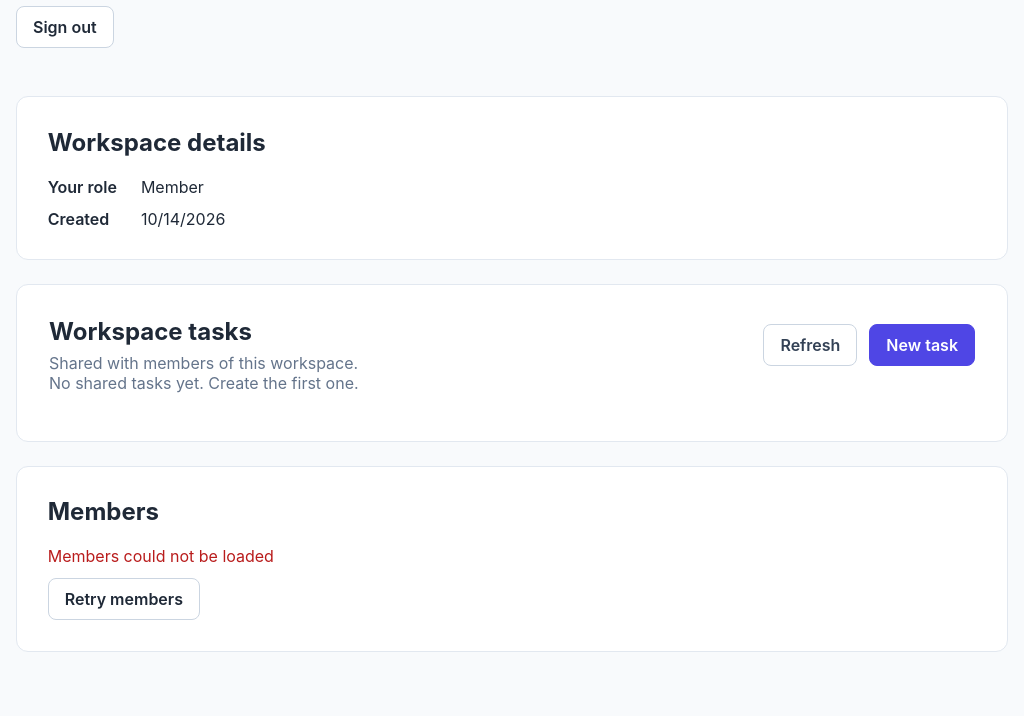
WorkspaceDetailsPage › retries member loading without reloading workspace details
(page scrolled)
Expected: the message reads "Members could not be loaded", left=48, top=546, right=274, bottom=566
Click the button "Retry members": coordinates (124, 599) left=48, top=578, right=200, bottom=620
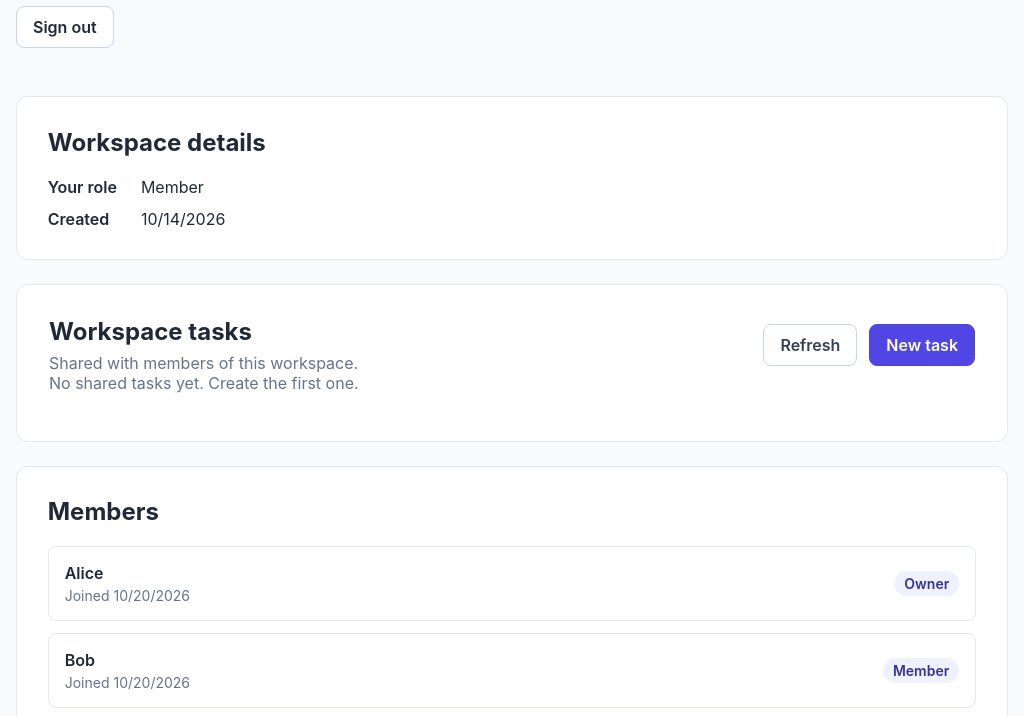
Expected: the text "Alice" is shown, left=65, top=563, right=104, bottom=583
Expected: the text "Bob" is shown, left=65, top=650, right=95, bottom=670
Expected: the message "Members could not be loaded" is gone
